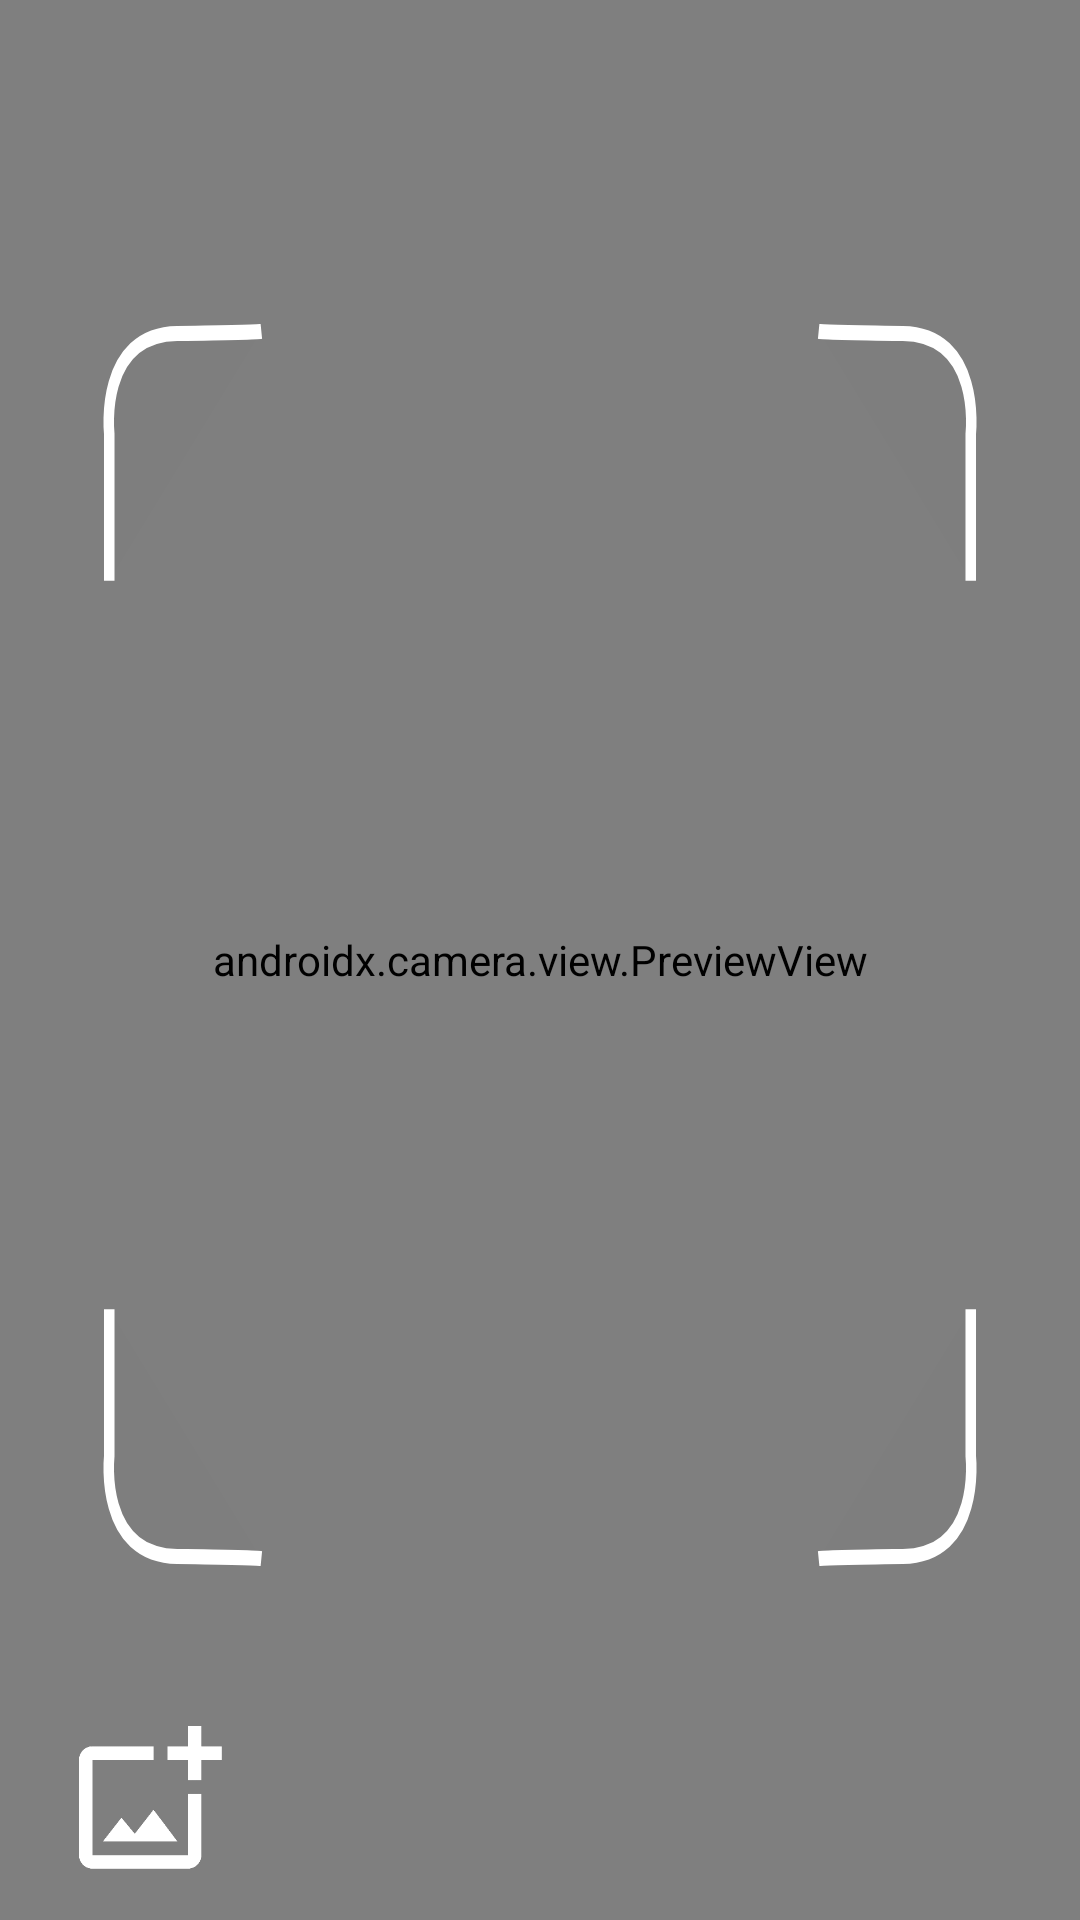

Locate icon controls on the screen. Image size 1080 x 1920, boxes as (x1, y1, x2, y2).
Button Gallery: (79, 1726, 222, 1869)
